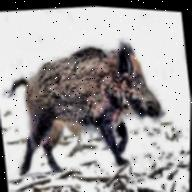boar: (3, 23, 172, 184)
